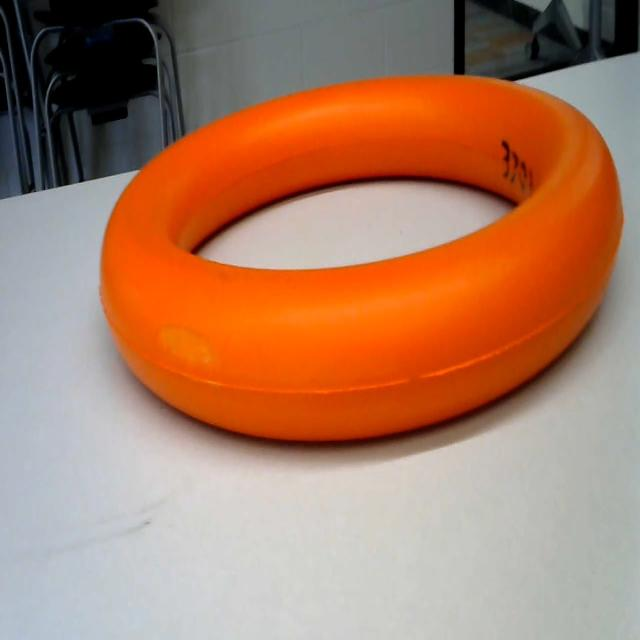note: (91, 59, 640, 452)
